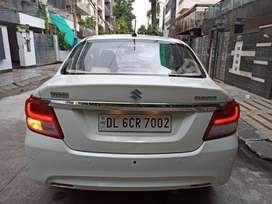DL6CR7002: (96, 114, 171, 131)
